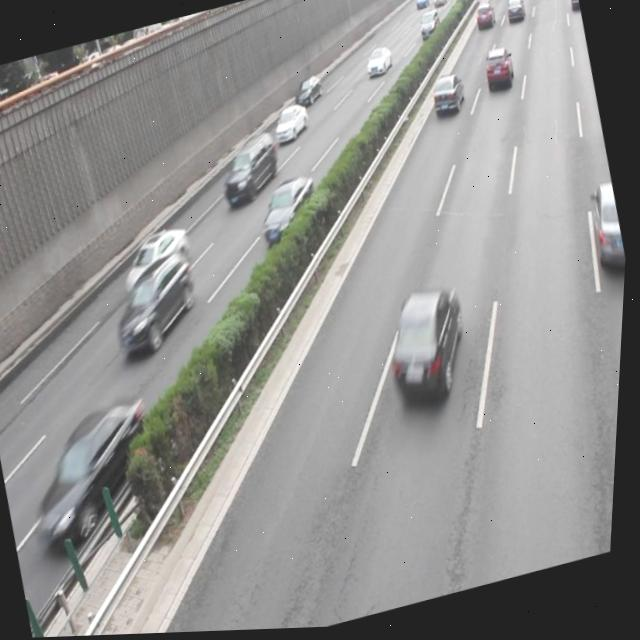car: (23, 391, 172, 548), (377, 279, 485, 413), (104, 248, 209, 357), (117, 223, 200, 297), (253, 174, 328, 253), (583, 181, 632, 283), (427, 73, 469, 122), (478, 46, 518, 97), (271, 102, 313, 147), (289, 75, 325, 110)
truck: (213, 129, 287, 211)
